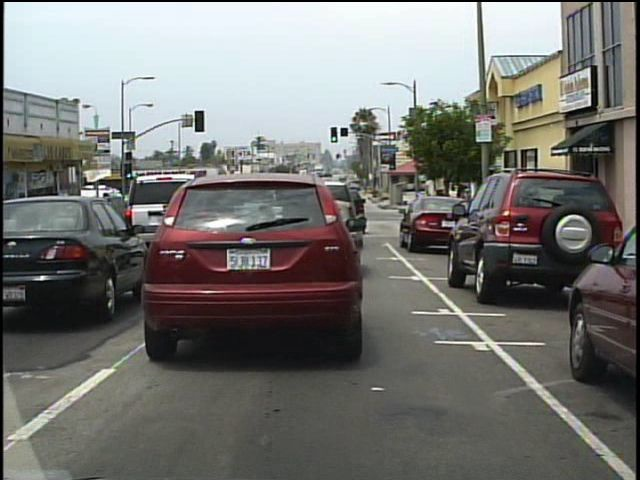person: (459, 187, 474, 220), (443, 190, 455, 228), (435, 192, 445, 228)
